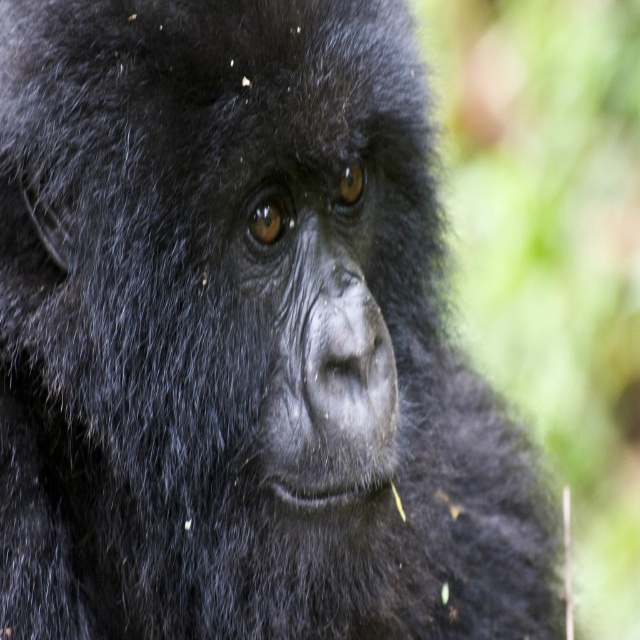Monkey: (0, 0, 581, 639)
